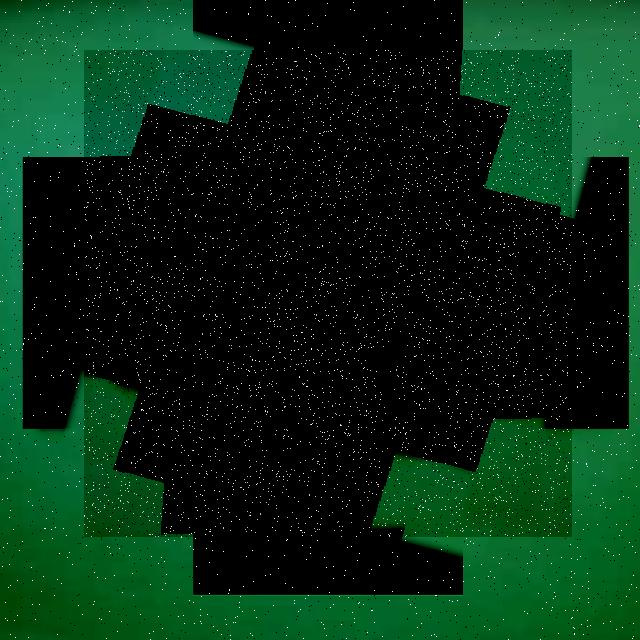lima puluh ribu rupiah: (84, 50, 572, 537)
